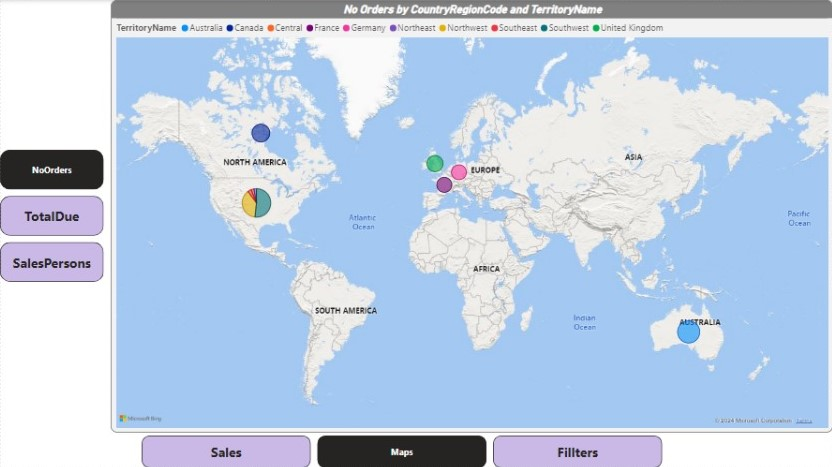

Layout of this report page (visuals, bound fields, positions):
{"tool":"powerbi","page":{"name":"Maps","canvas":[1280,720],"ordinal":2},"visuals":[{"type":"pageNavigator","box":[217.4,669.6,800.6,50.4],"z":0},{"type":"map","fields":{"Category":["Territory.CountryRegionCode"],"Series":["Territory.TerritoryName"],"Size":["OrderDetail.No Orders"]},"box":[169.9,0,1110.2,665.3],"z":2000},{"type":"bookmarkNavigator","box":[0,230.4,159.8,204.5],"z":4000}]}

Visuals, with their boxes on the page's 1280x720 design canvas (x1, y1, x2, y2). These are canvas units, not pixel positions in the 832x467 screenshot, which may show the page scaled, cropped or inside an application window:
pageNavigator: x1=217 y1=670 x2=1018 y2=720
map - Territory.CountryRegionCode x Territory.TerritoryName: x1=170 y1=0 x2=1280 y2=665
bookmarkNavigator: x1=0 y1=230 x2=160 y2=435
